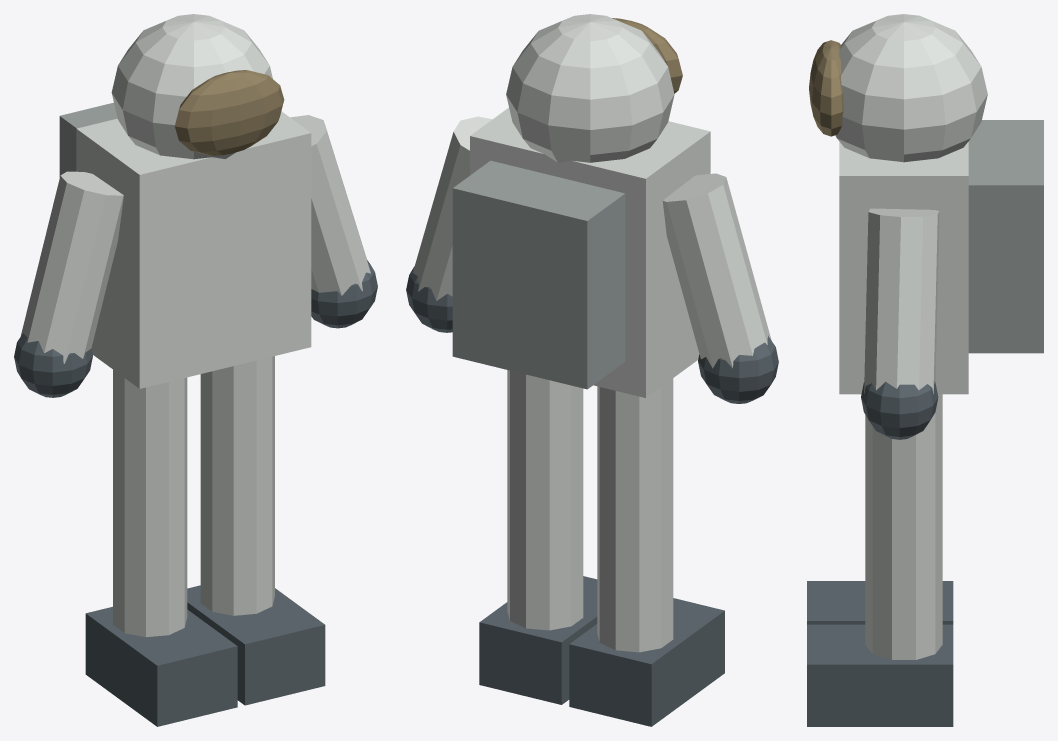
The model's file is astronaut.glb.
The picture shows the model from 3 angles, left to right: view 1: azimuth 30°, elevation 25°; view 2: azimuth 150°, elevation 25°; view 3: azimuth 270°, elevation 25°; orthographic projection. The views are drawn at different scales.
Parts seen in each view (by area): view 1: Astronaut_torso, Astronaut_leg_L, Astronaut_leg_R, Astronaut_boot_L, Astronaut_arm_L, Astronaut_helmet, Astronaut_boot_R, Astronaut_visor, Astronaut_arm_R, Astronaut_glove_L, Astronaut_glove_R, Astronaut_backpack; view 2: Astronaut_backpack, Astronaut_torso, Astronaut_leg_L, Astronaut_helmet, Astronaut_leg_R, Astronaut_arm_L, Astronaut_boot_L, Astronaut_boot_R, Astronaut_arm_R, Astronaut_glove_L, Astronaut_glove_R, Astronaut_visor; view 3: Astronaut_helmet, Astronaut_torso, Astronaut_leg_R, Astronaut_backpack, Astronaut_arm_R, Astronaut_boot_R, Astronaut_glove_R, Astronaut_boot_L, Astronaut_visor.
Boxes of the visible parts, x1,y1,x2,y2 form: Astronaut_torso: [76, 111, 311, 388]; Astronaut_leg_L: [113, 370, 187, 637]; Astronaut_leg_R: [200, 356, 274, 615]; Astronaut_boot_L: [85, 606, 237, 726]; Astronaut_arm_L: [20, 171, 123, 363]; Astronaut_helmet: [111, 14, 272, 159]; Astronaut_boot_R: [187, 585, 325, 705]; Astronaut_visor: [174, 70, 284, 155]; Astronaut_arm_R: [290, 115, 370, 295]; Astronaut_glove_L: [14, 333, 92, 397]; Astronaut_glove_R: [311, 260, 377, 328]; Astronaut_backpack: [59, 102, 117, 177]; Astronaut_backpack: [452, 160, 625, 389]; Astronaut_torso: [470, 107, 710, 397]; Astronaut_leg_L: [597, 378, 673, 652]; Astronaut_helmet: [506, 14, 674, 162]; Astronaut_leg_R: [507, 370, 583, 630]; Astronaut_arm_L: [662, 173, 771, 368]; Astronaut_boot_L: [569, 598, 724, 726]; Astronaut_boot_R: [479, 576, 597, 704]; Astronaut_arm_R: [413, 116, 492, 300]; Astronaut_glove_L: [698, 336, 778, 403]; Astronaut_glove_R: [406, 266, 452, 332]; Astronaut_visor: [612, 18, 682, 93]; Astronaut_helmet: [835, 14, 987, 162]; Astronaut_torso: [839, 142, 968, 394]; Astronaut_leg_R: [865, 394, 942, 659]; Astronaut_backpack: [968, 120, 1043, 353]; Astronaut_arm_R: [864, 208, 939, 394]; Astronaut_boot_R: [807, 624, 953, 726]; Astronaut_glove_R: [861, 381, 938, 439]; Astronaut_boot_L: [807, 581, 953, 624]; Astronaut_visor: [809, 40, 843, 136].
Bounding box in the file's own units: 0.97 × 1.7 × 0.55.
